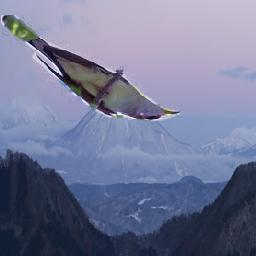Cuckoo: (2, 15, 181, 121)
